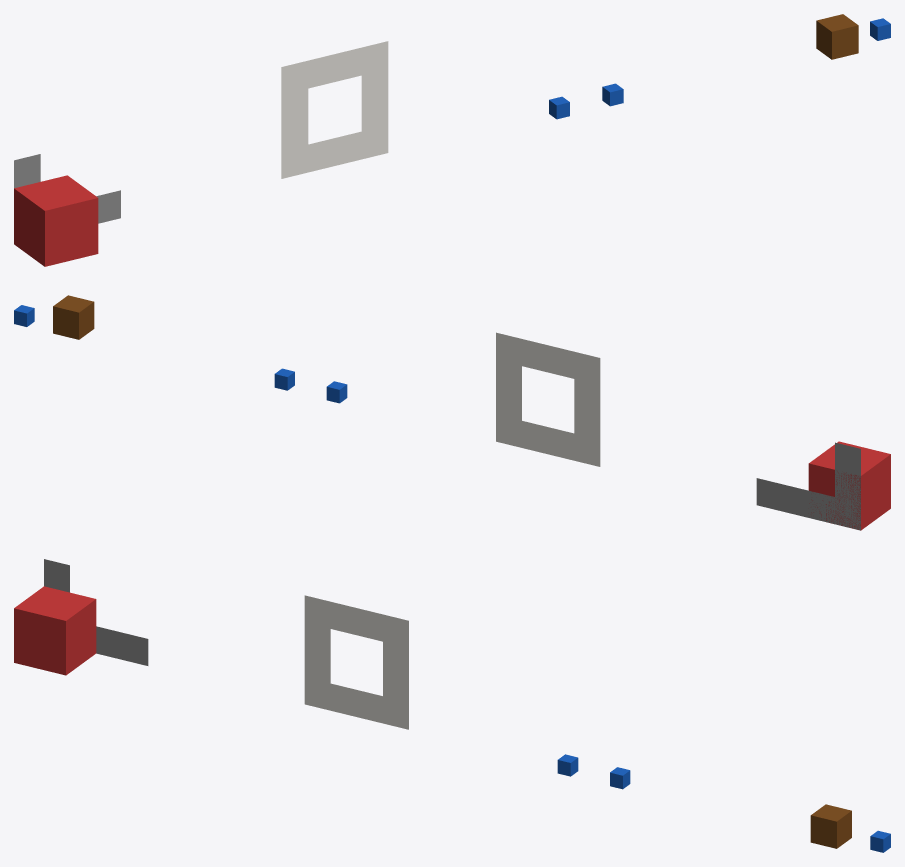
The model's file is structured.obj.
The picture shows the model from 3 angles, top to bottom: view 1: azimuth 30°, elevation 25°; view 2: azimuth 150°, elevation 25°; view 3: azimuth 330°, elevation 25°; orthographic projection. The views are drawn at different scales.
Bounding box in the file's own units: 32.5 × 4 × 2.
